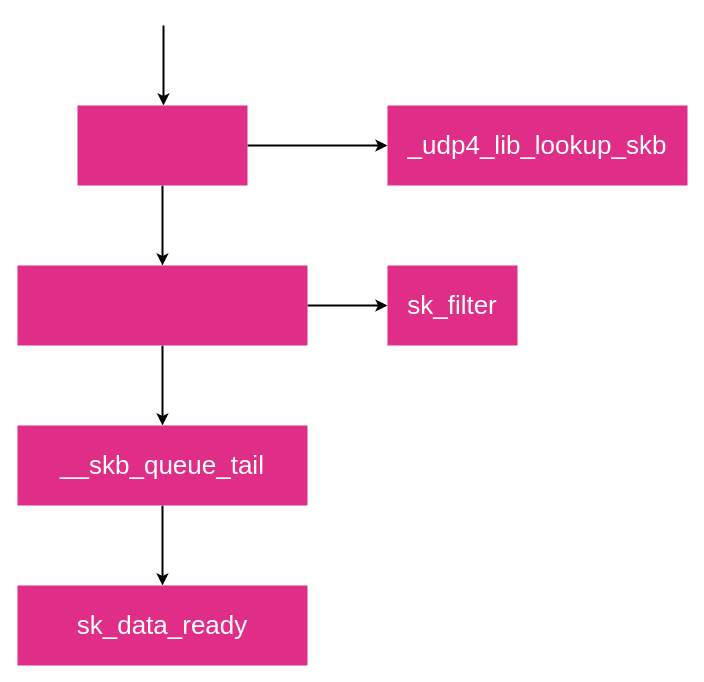
Image size: 704x682. Some labels were removed from this diagram. Each missing label, with the centre of its shape:
"sock_queue_rcv_skb" belongs at point 162,305.
"udp_rcv" belongs at point 162,145.
